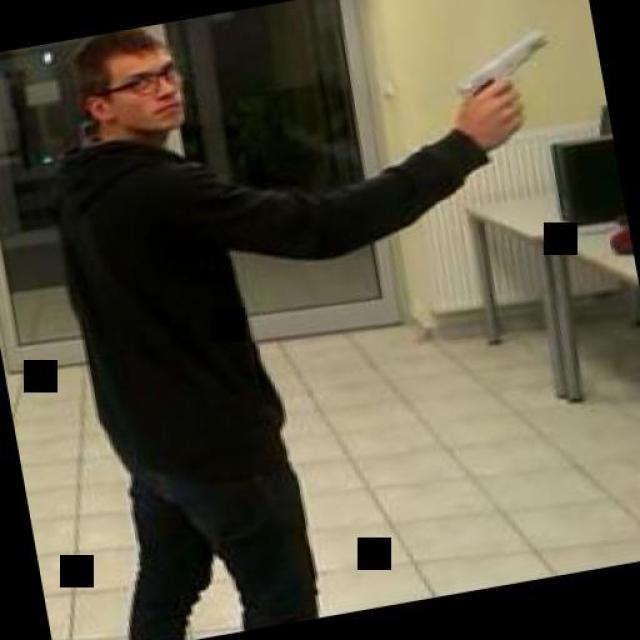gun: (438, 21, 564, 139)
